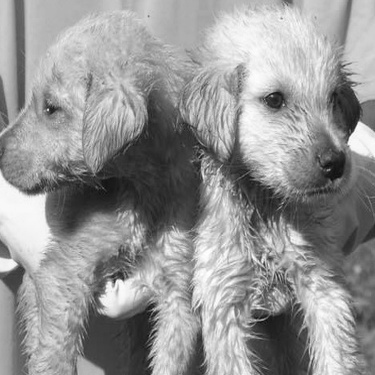dog: (1, 4, 210, 369), (184, 3, 368, 369)
